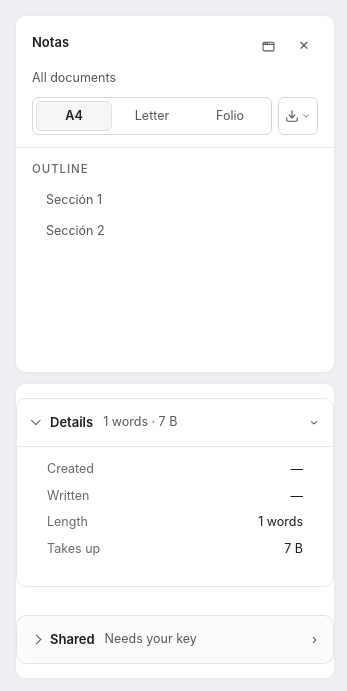
Test case: the shared row › asks for a key before sharing, since nothing goes out unsigned
The image size is (347, 691).
Check: the text with class "side-gist" reads "Needs your key", box [105,631,197,646]
Click the heading "Shared Needs your key".
click(123, 639)  # box [50,631,197,647]
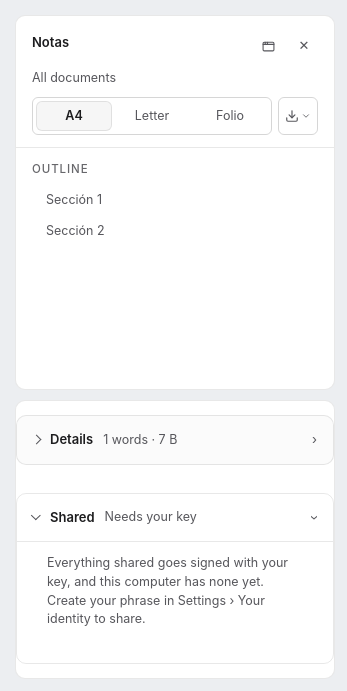
Check: the text "Everything shared goes signed with your key, and this computer has none yet. Create your phrase in Settings › Your ident" is shown, box [47,555,288,626]
